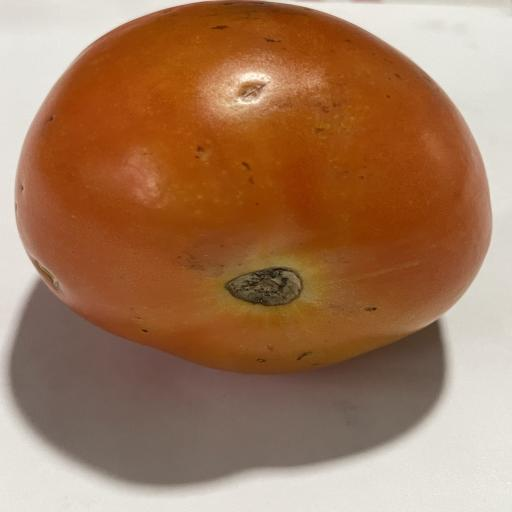ripe: (16, 0, 491, 373)
